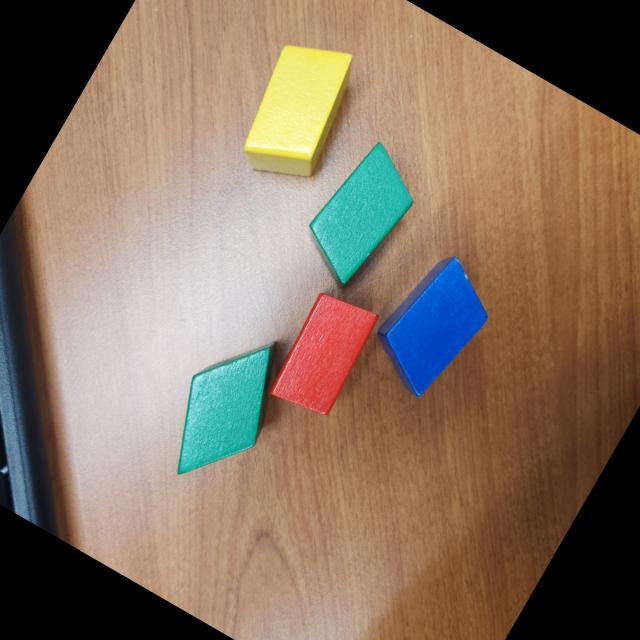blue: (357, 240, 509, 412)
green: (146, 313, 308, 502), (288, 130, 434, 300)
red: (264, 284, 386, 424)
yellow: (222, 24, 374, 198)
